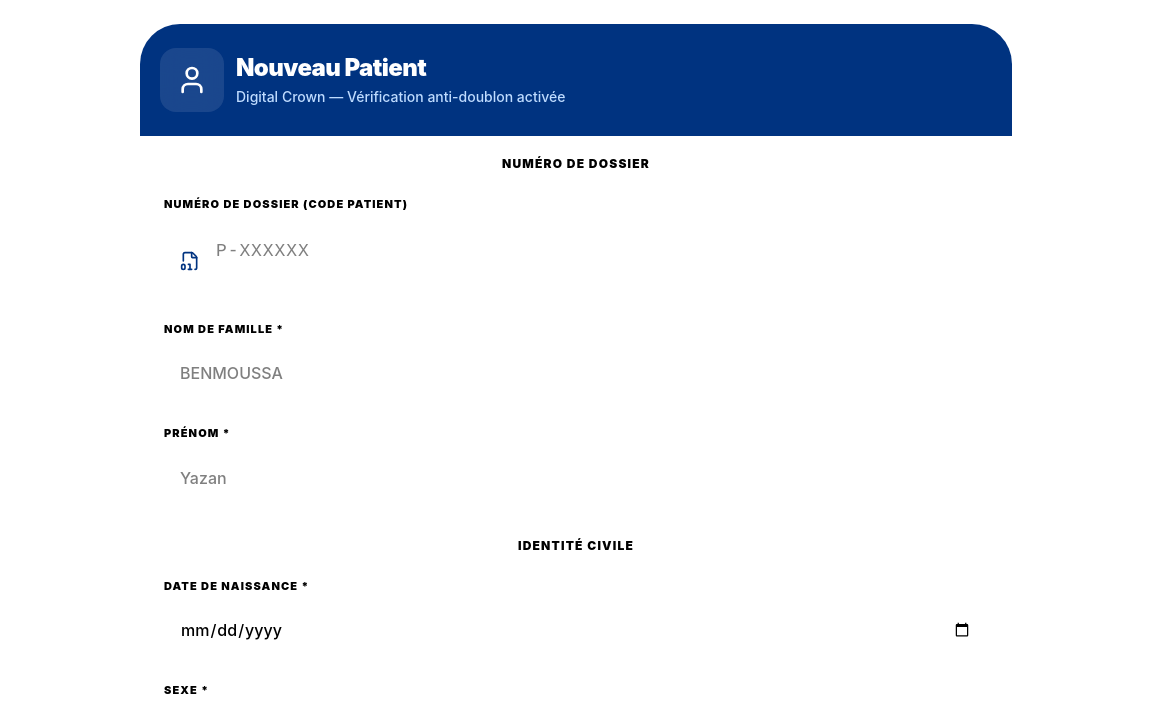
Test case: AddPatientForm G2 dossier-number availability › shows an unverified state when dossier-number verification fails
Step 1. Type "P-ERR" into the field with placeholder "P-XXXXXX" → coordinates (576, 250), box [160,220,992,280]
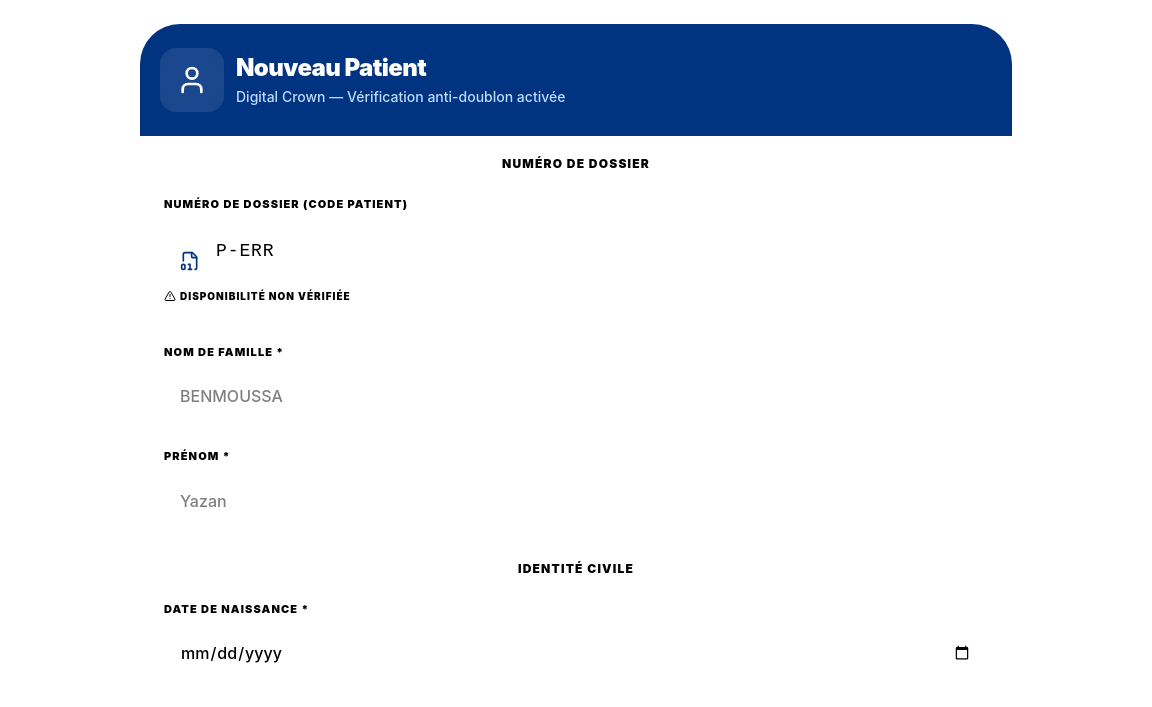
Check: the text "Disponibilité non vérifiée" is shown, box [164,290,351,302]
